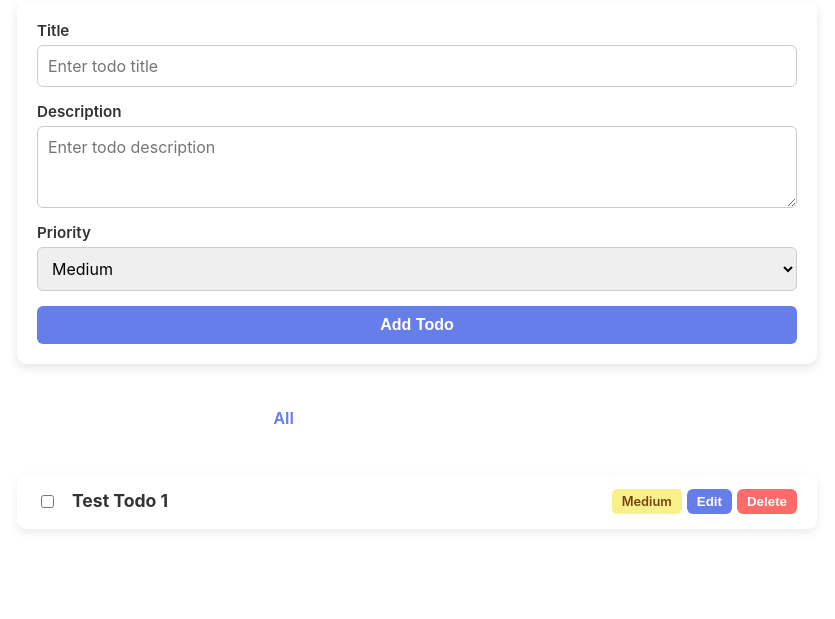
Test: TodoApp Integration Tests › adds a new todo
Expected: the heading "Test Todo 1" is shown, [72,490,168,511]
Type "New Todo" into the field with placeholder "Enter todo title".
click(417, 66); type("New Todo")  # box [37,45,797,87]
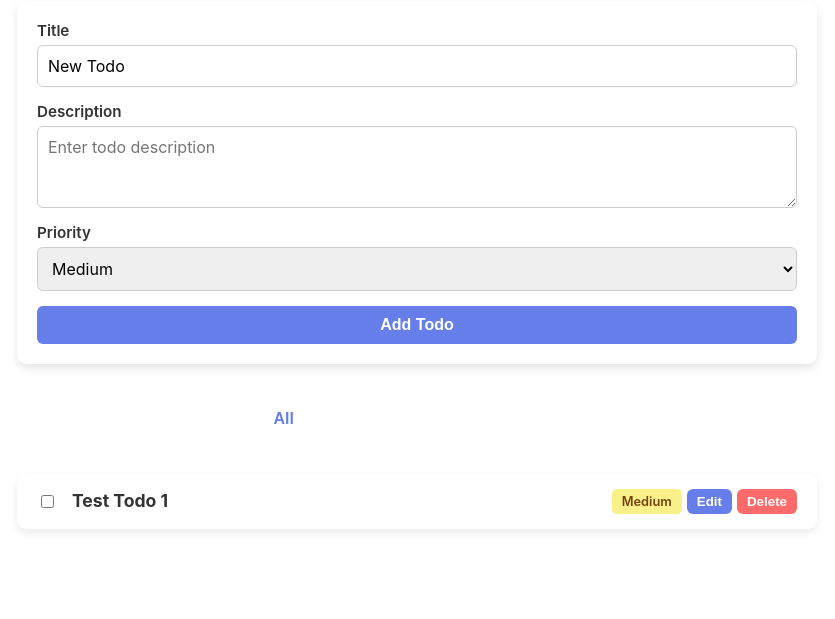
Click the button "Add Todo".
click(417, 325)  # box [37,306,797,344]
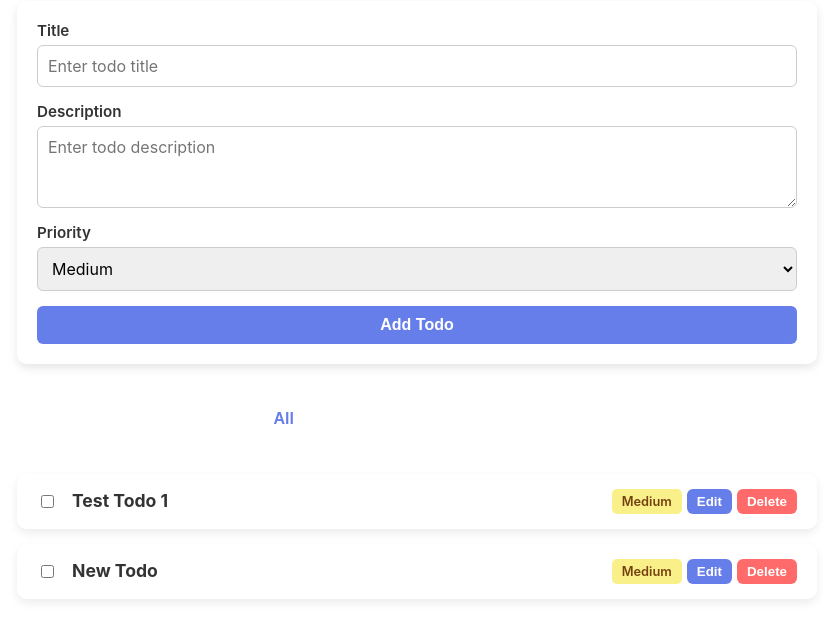
Expected: the heading "New Todo" is shown, [72,560,158,581]
